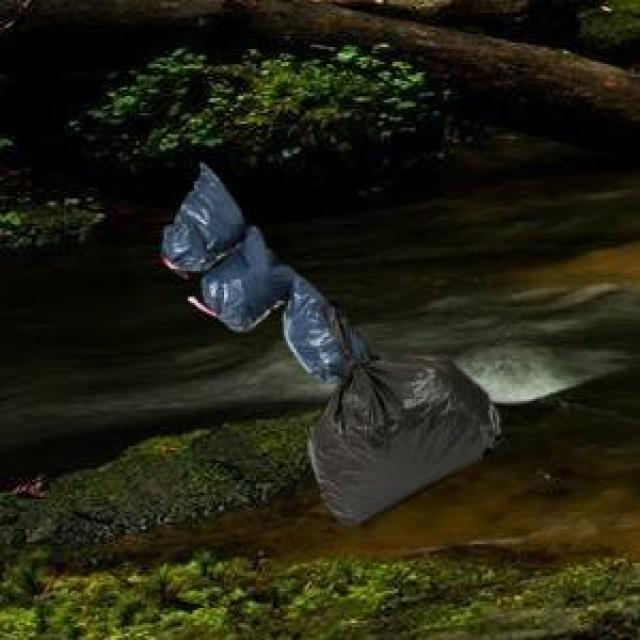Vinyl: (162, 164, 500, 523)
